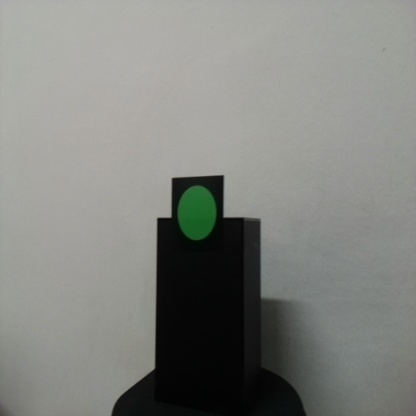id_5: (171, 177, 224, 256)
